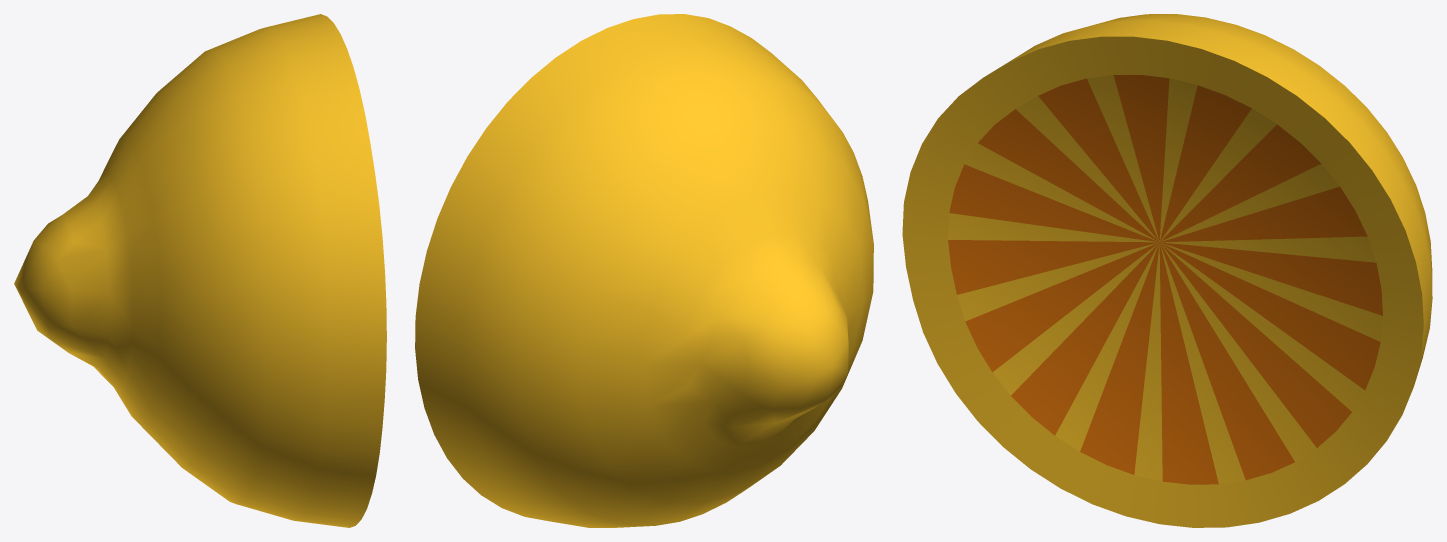
File: lemon.dae
The picture shows the model from 3 angles, left to right: view 1: azimuth 30°, elevation 25°; view 2: azimuth 150°, elevation 25°; view 3: azimuth 270°, elevation 25°; orthographic projection. The views are drawn at different scales.
Parts seen in each view (by area): view 1: node; view 2: node; view 3: node.
Part boxes in pixels (x1=…): node: x1=14, y1=14, x2=386, y2=527; node: x1=415, y1=14, x2=873, y2=527; node: x1=902, y1=14, x2=1432, y2=527.
Bounding box in the file's own units: 0.224 × 0.2896 × 0.2961.
